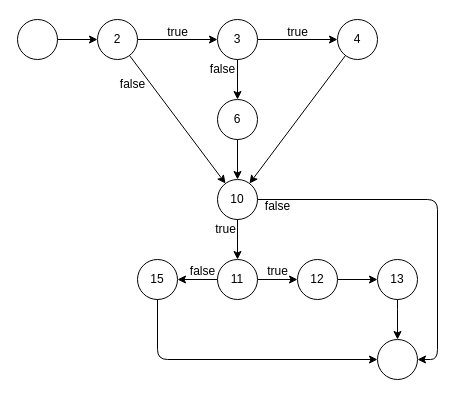
This 463x397 diagram has some shape labels left out. The centre of each missing label's shape, as x and y in pixels:
nf: point (397, 359)
ni: point (37, 39)
